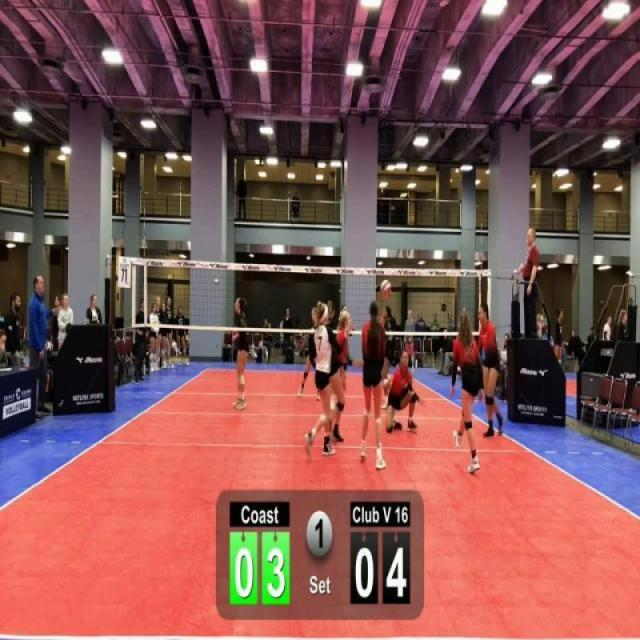volleyball: (380, 276, 392, 300)
